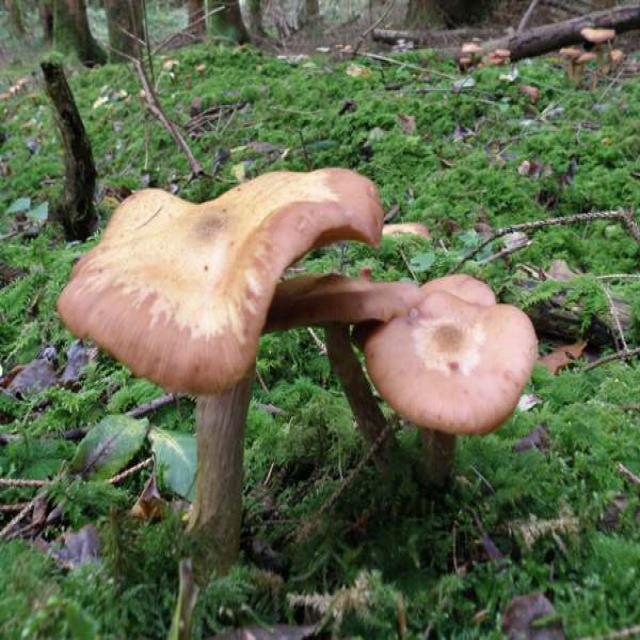Armillaria mellea: (57, 167, 538, 554)
